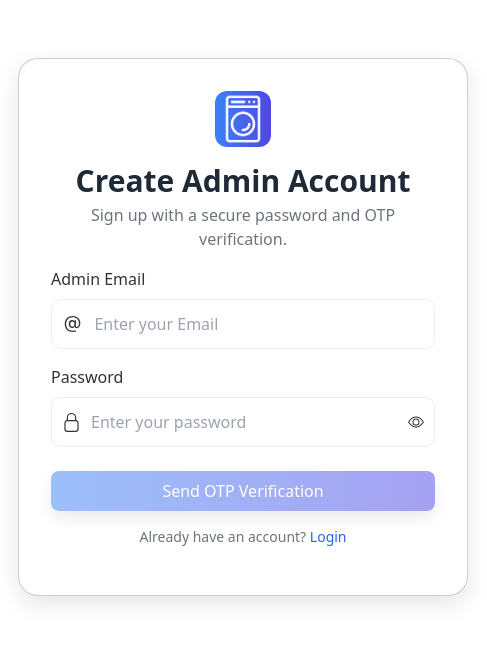
it: SignUp Component › shows password criteria checkmarks when typing password
The width and height of the screenshot is (487, 665).
Type "Ab1!" into the password field with placeholder "Enter your password".
click(262, 422); type("Ab1!")  # box [91,398,434,446]
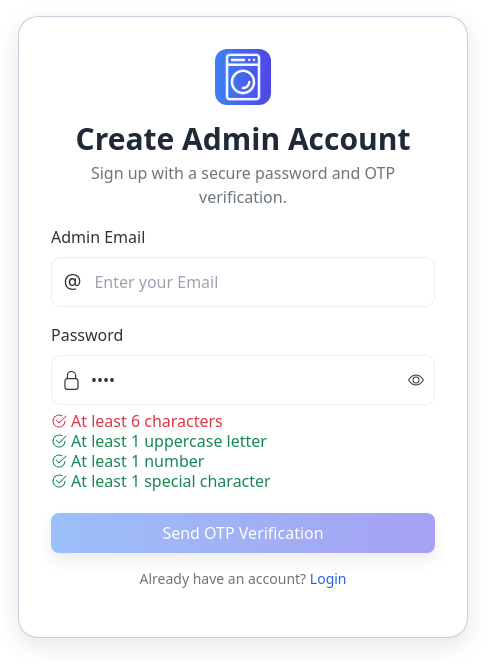
Now the list item "At least 6 characters" is shown, box [51,410,223,432]
Now the list item "At least 1 uppercase letter" is shown, box [51,430,267,452]
Now the list item "At least 1 number" is shown, box [51,450,204,472]
